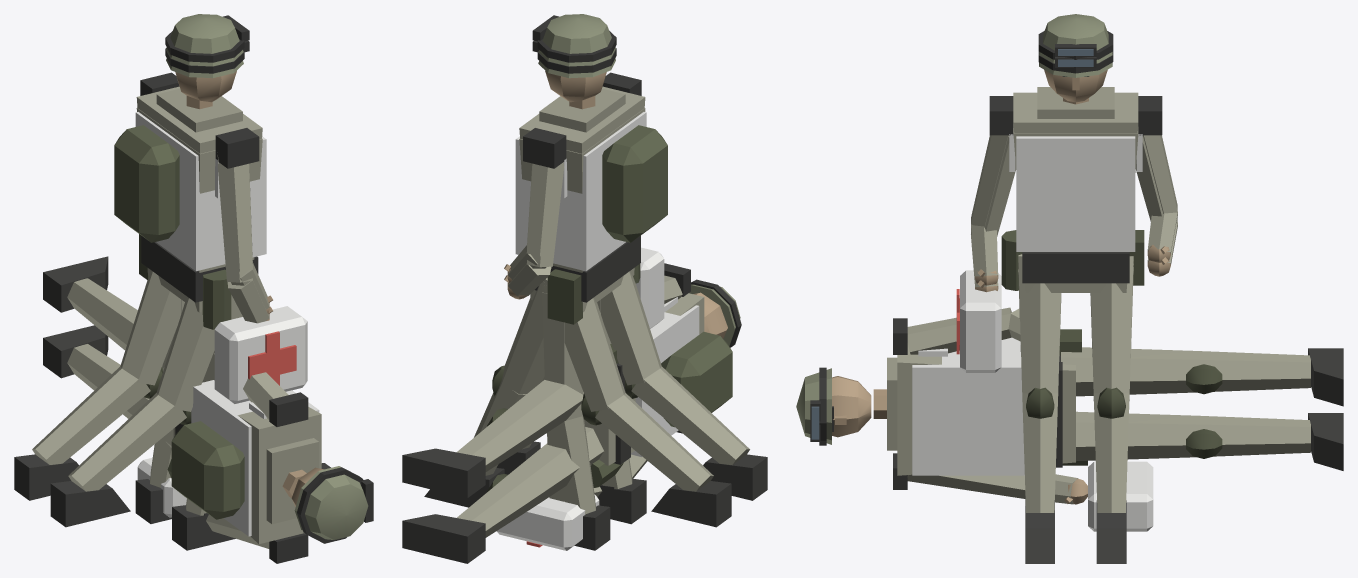
Rendered from med.glb.
The picture shows the model from 3 angles, left to right: view 1: azimuth 30°, elevation 25°; view 2: azimuth 150°, elevation 25°; view 3: azimuth 270°, elevation 25°; orthographic projection.
Visible parts, largest first — view 1: dead, hull, pose0, pose3, pose1; view 2: dead, hull, pose0, pose3, pose1; view 3: dead, hull, pose0, pose3, pose1.
Boxes of the visible parts, x1,y1,x2,y2 form: dead: (43,256,373,563); hull: (114,14,307,545); pose0: (114,40,307,550); pose3: (50,297,214,527); pose1: (14,271,330,500); dead: (402,263,741,563); hull: (504,14,667,519); pose0: (504,40,667,550); pose3: (424,271,767,507); pose1: (496,285,731,527); dead: (796,307,1343,531); hull: (956,14,1177,499); pose0: (956,51,1177,400); pose3: (1018,254,1133,563); pose1: (1018,256,1133,563).
Bounding box in the file's own units: 1.12 × 1.84 × 1.84.
